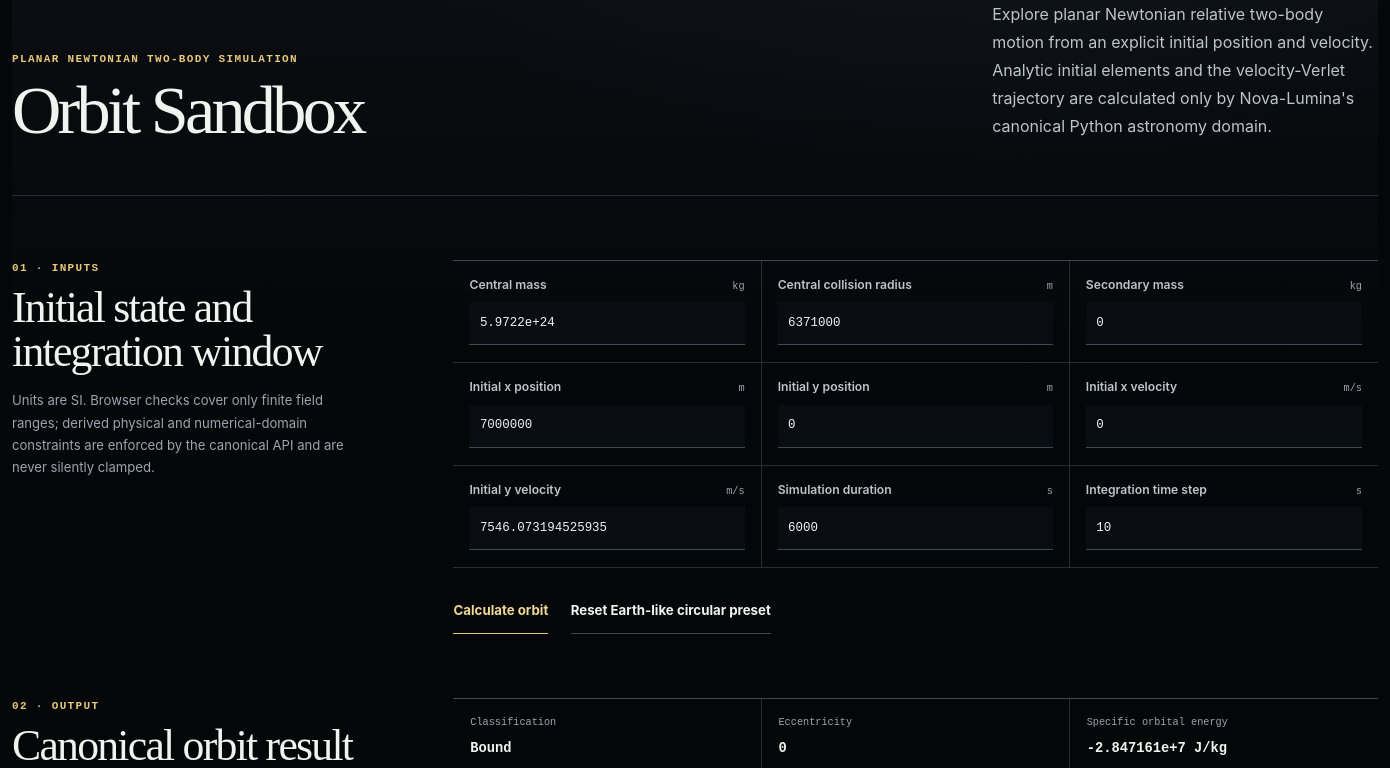
Test: OrbitSandboxView › retains the last canonical result when the API rejects a relationally invalid state
Replace the text in the number field labelled "Integration time step s" with "100" at (1224, 529), box [1086,507,1362,550]
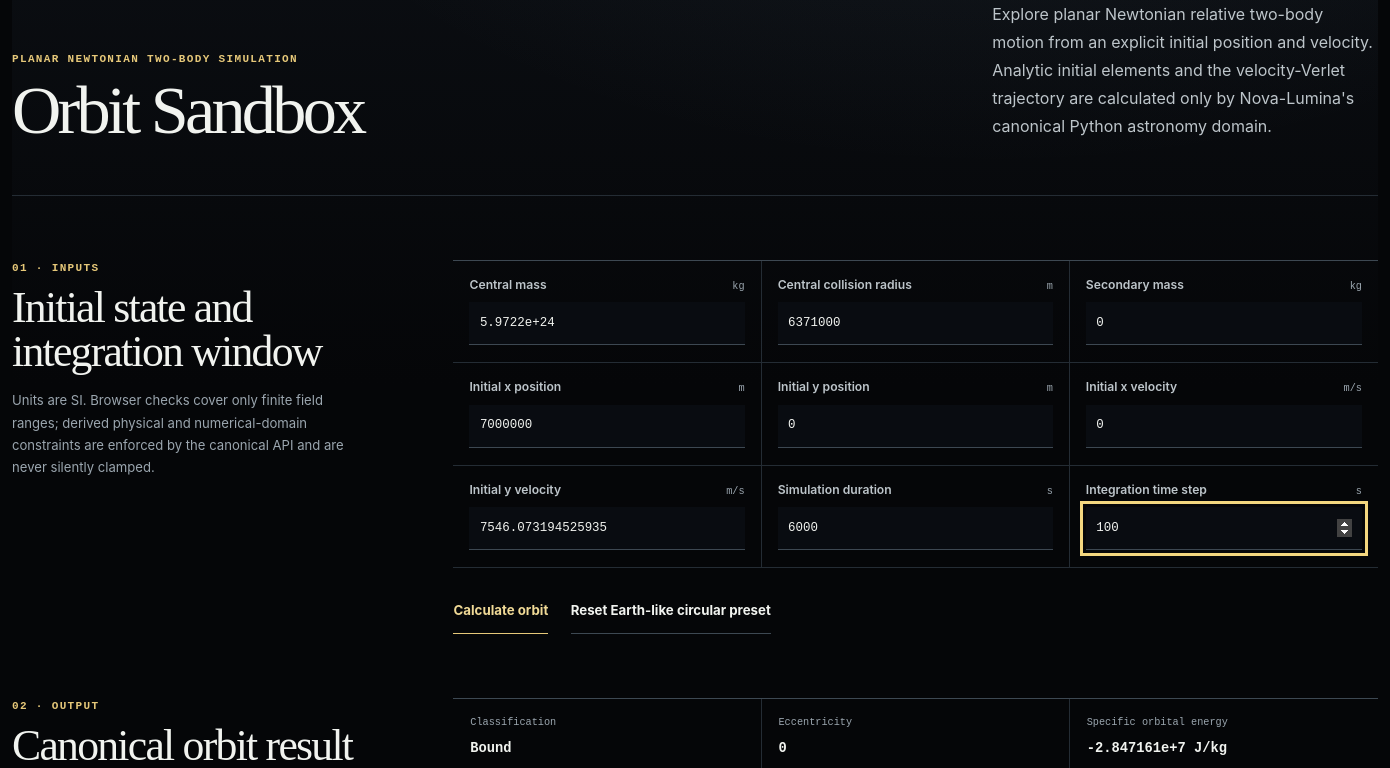
Click the button "Calculate orbit" at (501, 612), box [454,590,548,634]
(page scrolled)
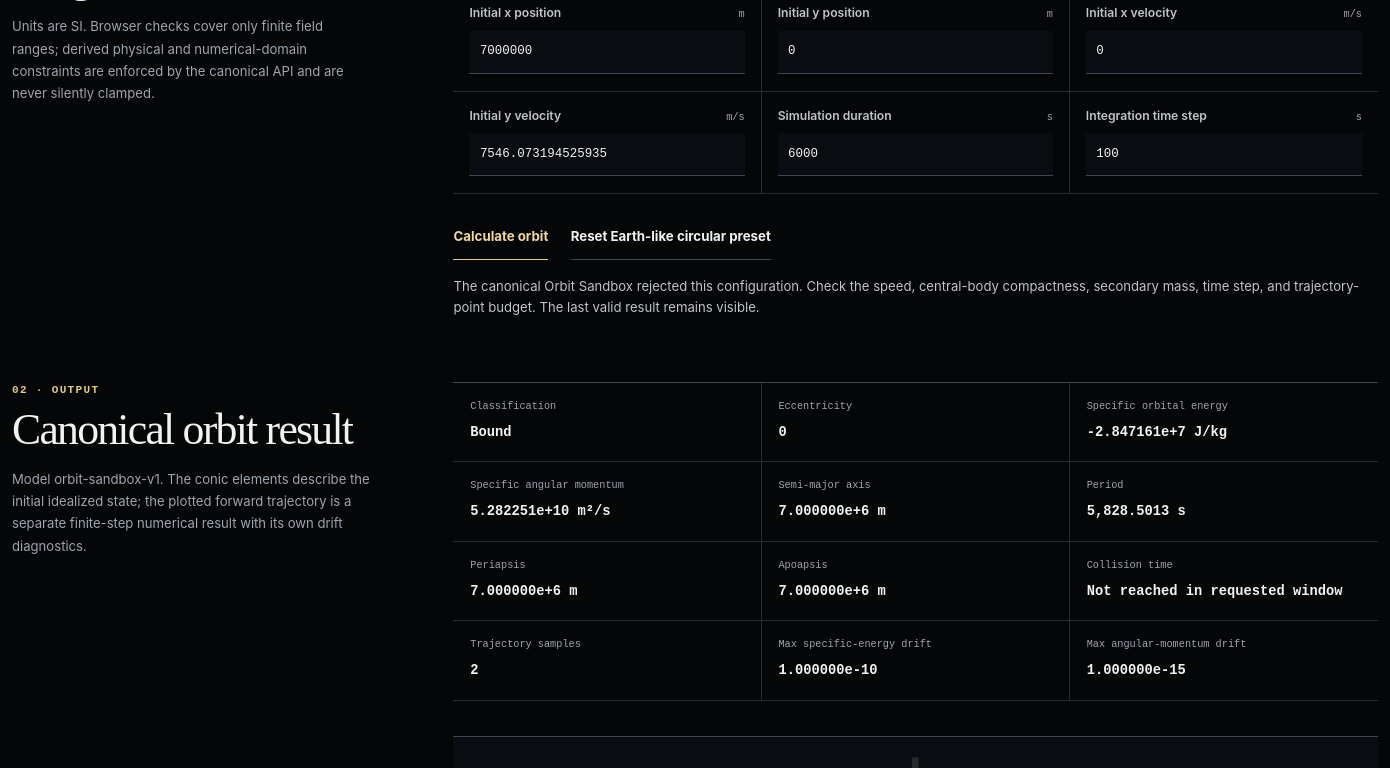
Expected: the text "Bound" is shown, [470,425,512,440]
Now the text "canonical Orbit Sandbox rejected this configuration" is shown, box [454,278,1359,315]
